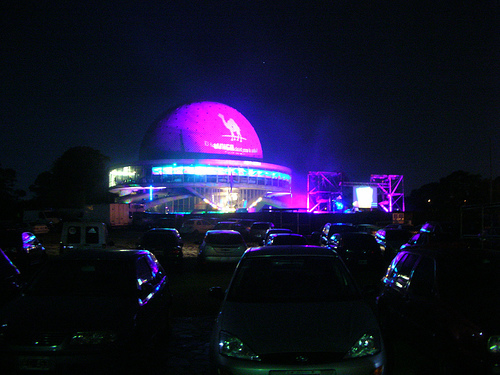car: (194, 227, 257, 267)
